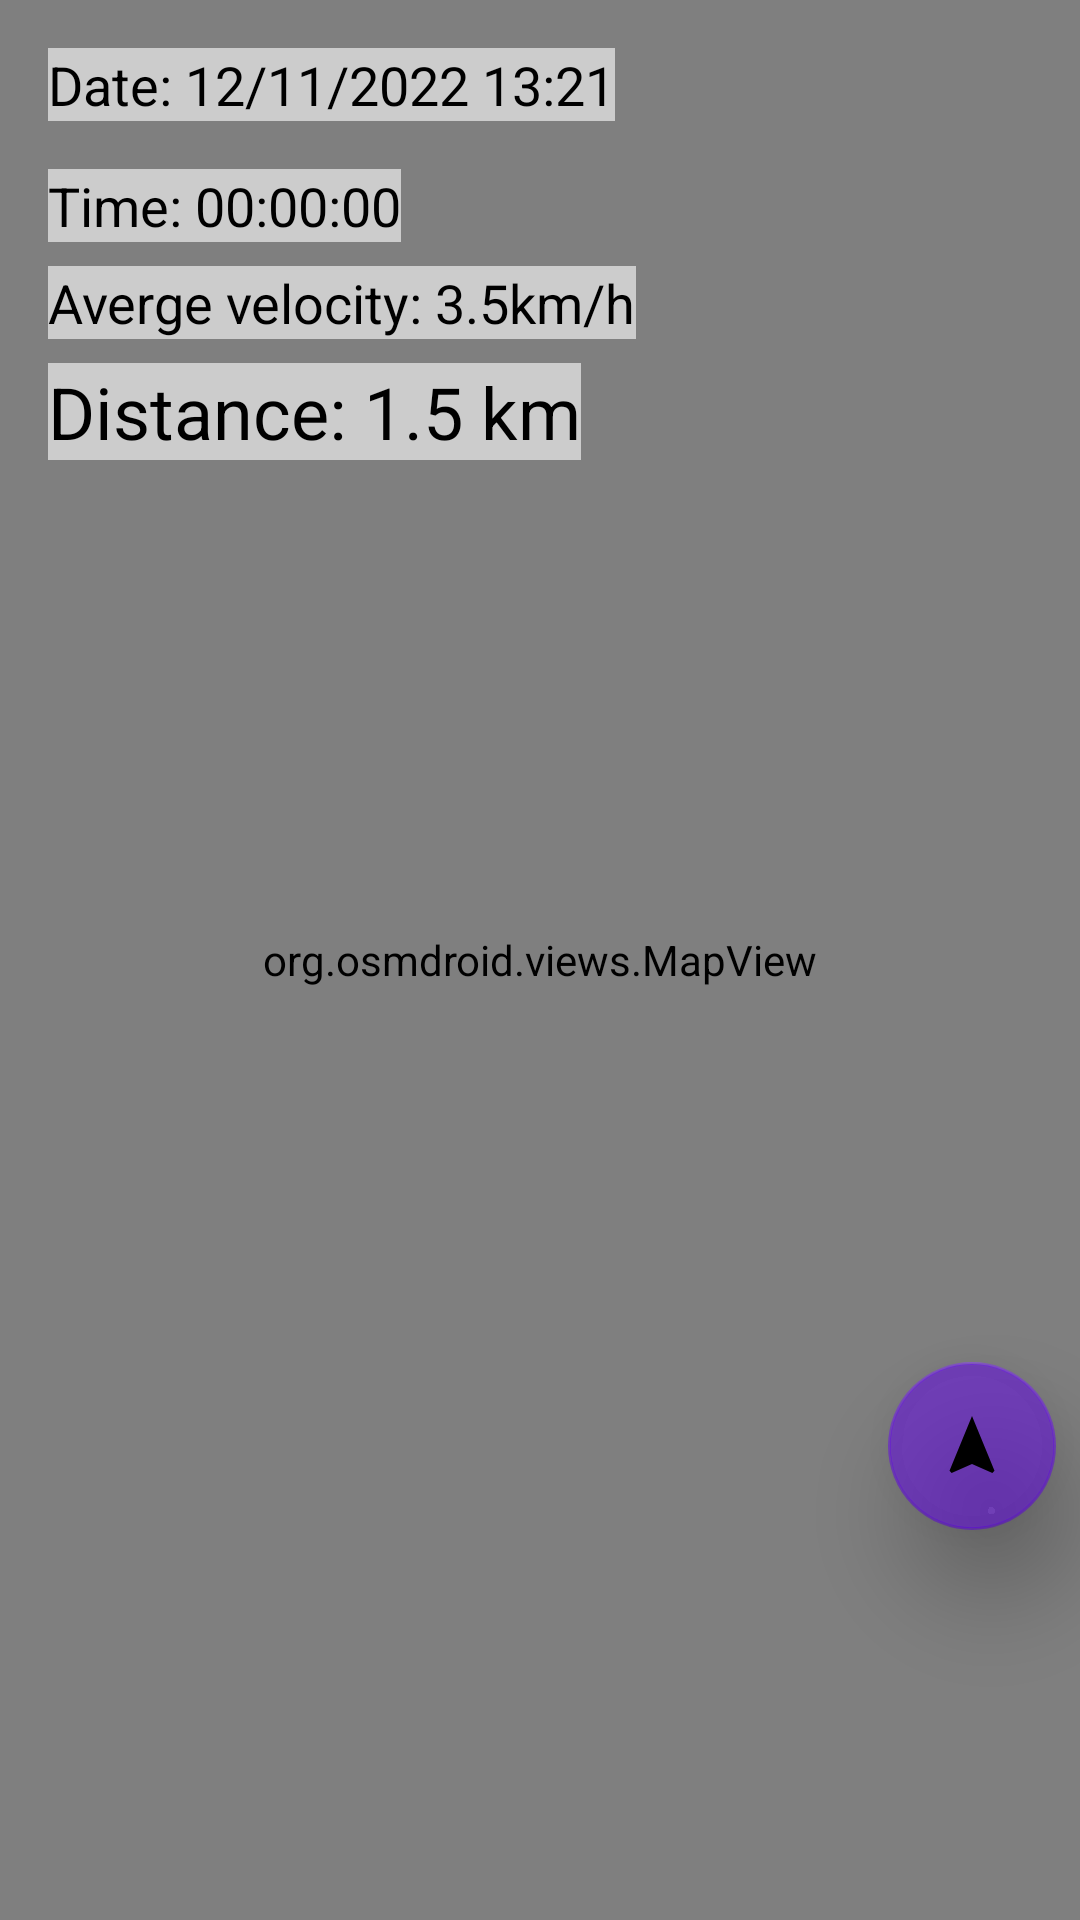

Point at icon controls on the screen. Image size 1080px×1920px, points as point (x, y).
navme: point (972, 1446)
